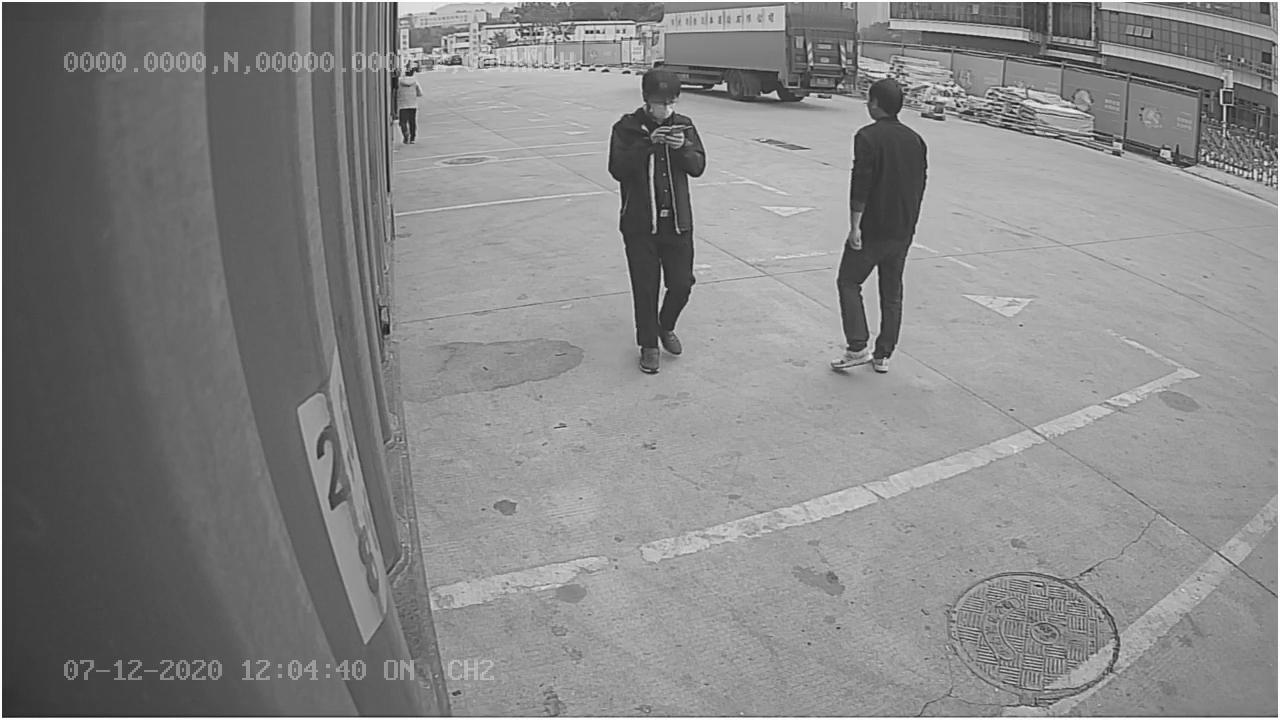person: (830, 77, 930, 379)
